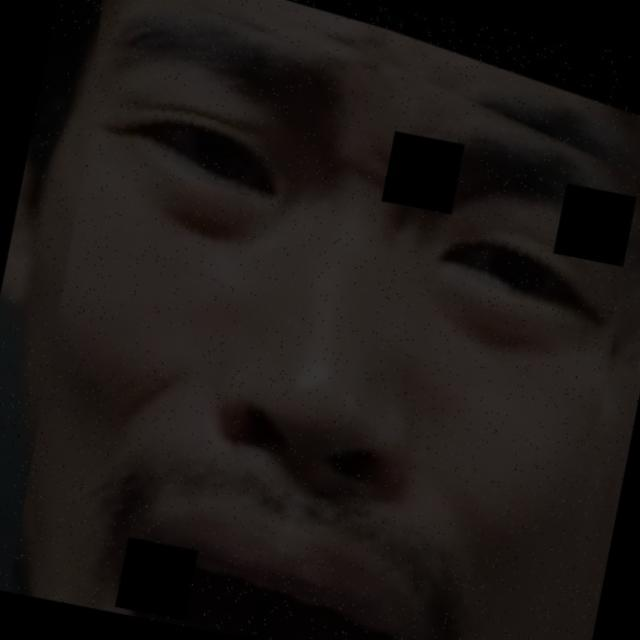Surprised: (64, 60, 640, 639)
